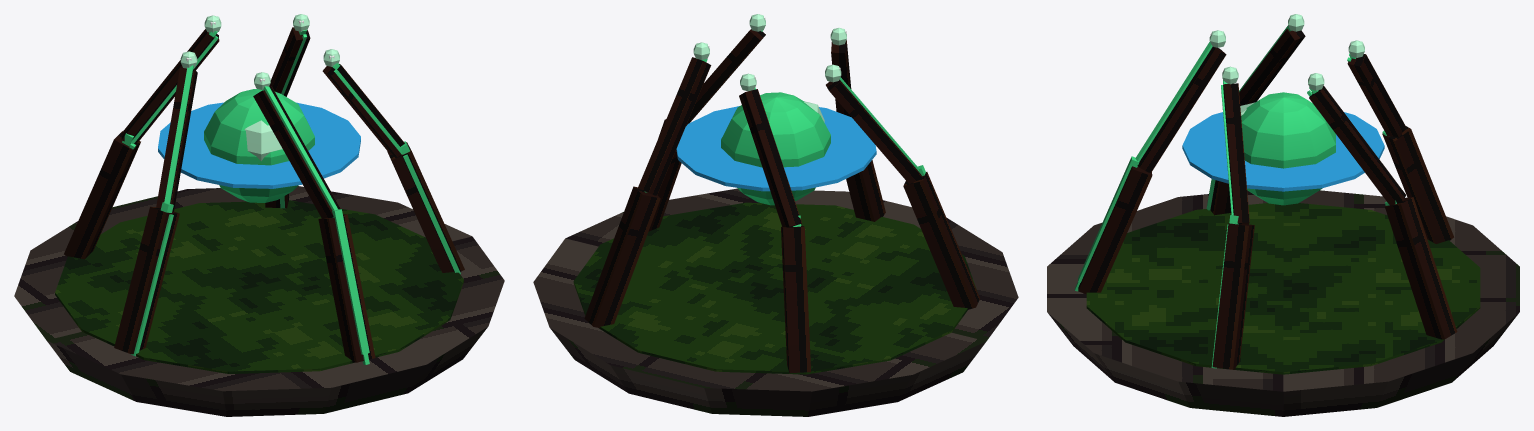
Rendered from heartseed_cradle.glb.
The picture shows the model from 3 angles, left to right: view 1: azimuth 30°, elevation 25°; view 2: azimuth 150°, elevation 25°; view 3: azimuth 270°, elevation 25°; orthographic projection.
Parts seen in each view (by area): view 1: heartseed_cradle; view 2: heartseed_cradle; view 3: heartseed_cradle.
Boxes of the visible parts, x1,y1,x2,y2 form: heartseed_cradle: (14, 14, 504, 416); heartseed_cradle: (533, 14, 1018, 416); heartseed_cradle: (1047, 14, 1519, 416).
Bounding box in the file's own units: 3.6 × 2.3 × 3.51.
Materials: 4 (3 with a texture image).
